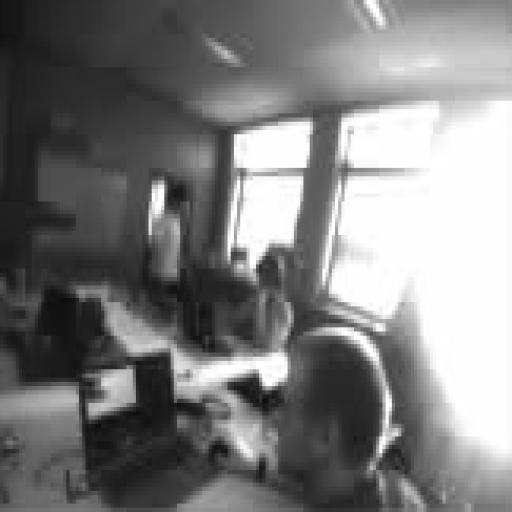human: (275, 328, 426, 511), (215, 252, 293, 352), (146, 202, 183, 302)
